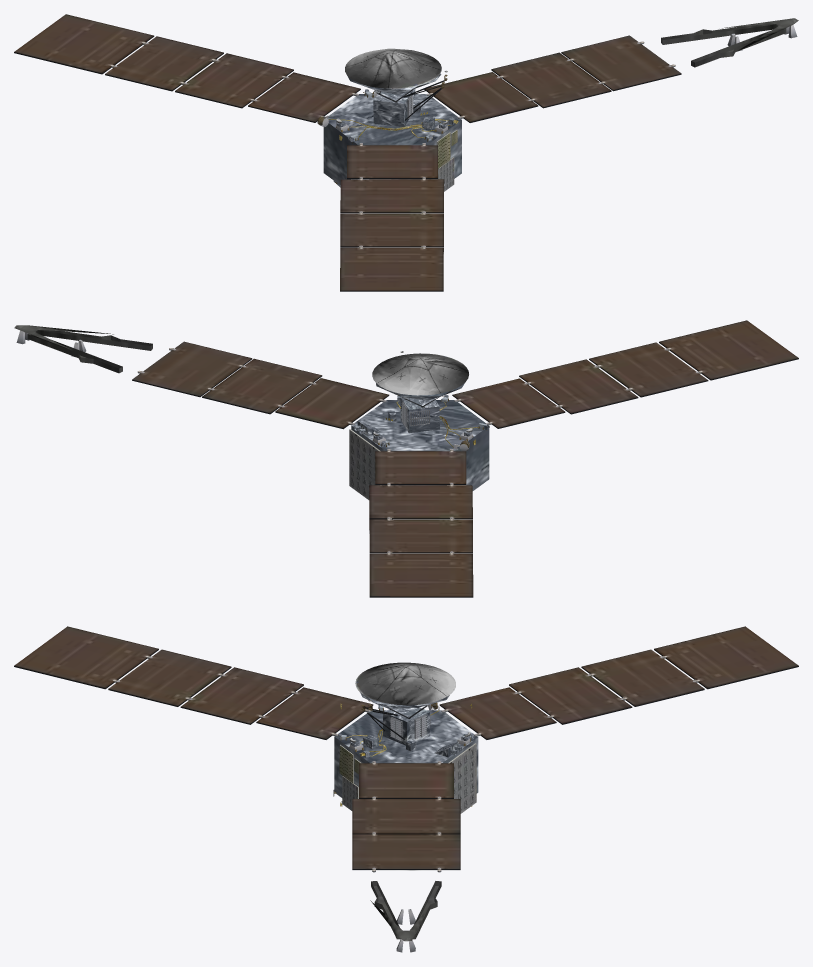
Rendered from juno-preview.glb.
3 views of the same model, one above another, from view 1: azimuth 30°, elevation 25°; view 2: azimuth 150°, elevation 25°; view 3: azimuth 270°, elevation 25° (orthographic). The views are drawn at different scales.
Parts seen in each view (by area): view 1: shiny_panels_Geometry-Body.021, dish_bottom_Geometry-Mesh, dish_top_Geometry-Mesh.002, black_krinkle_Geometry-Body.007, solar_panels_Geometry-Body.006, tex_01_Geometry-Body.003; view 2: shiny_panels_Geometry-Body.021, dish_bottom_Geometry-Mesh, dish_top_Geometry-Mesh.002, tex_01_Geometry-Body.003, solar_panels_Geometry-Body.006, black_krinkle_Geometry-Body.007; view 3: shiny_panels_Geometry-Body.021, dish_bottom_Geometry-Mesh, tex_01_Geometry-Body.003, dish_top_Geometry-Mesh.002, black_krinkle_Geometry-Body.007, solar_panels_Geometry-Body.006.
Boxes of the visible parts, x1=… form: shiny_panels_Geometry-Body.021: x1=14, y1=14, x2=681, y2=290; dish_bottom_Geometry-Mesh: x1=323, y1=73, x2=461, y2=187; dish_top_Geometry-Mesh.002: x1=345, y1=48, x2=441, y2=88; black_krinkle_Geometry-Body.007: x1=14, y1=36, x2=681, y2=291; solar_panels_Geometry-Body.006: x1=340, y1=18, x2=798, y2=253; tex_01_Geometry-Body.003: x1=110, y1=25, x2=797, y2=248; shiny_panels_Geometry-Body.021: x1=132, y1=320, x2=798, y2=596; dish_bottom_Geometry-Mesh: x1=351, y1=383, x2=489, y2=490; dish_top_Geometry-Mesh.002: x1=372, y1=353, x2=468, y2=395; tex_01_Geometry-Body.003: x1=16, y1=330, x2=702, y2=554; solar_panels_Geometry-Body.006: x1=14, y1=325, x2=465, y2=533; black_krinkle_Geometry-Body.007: x1=132, y1=342, x2=798, y2=597; shiny_panels_Geometry-Body.021: x1=14, y1=626, x2=798, y2=868; dish_bottom_Geometry-Mesh: x1=334, y1=692, x2=478, y2=797; tex_01_Geometry-Body.003: x1=112, y1=655, x2=699, y2=952; dish_top_Geometry-Mesh.002: x1=355, y1=662, x2=455, y2=705; black_krinkle_Geometry-Body.007: x1=14, y1=649, x2=798, y2=869; solar_panels_Geometry-Body.006: x1=352, y1=870, x2=460, y2=941.
Bounding box in the file's own units: 17.61 × 3.75 × 18.54.
9 materials, 9 textured.
